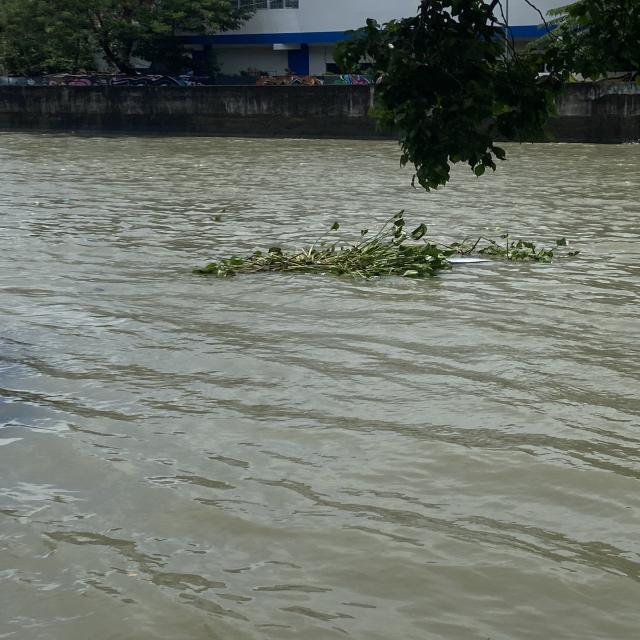Organic Debris: (190, 210, 597, 294)
